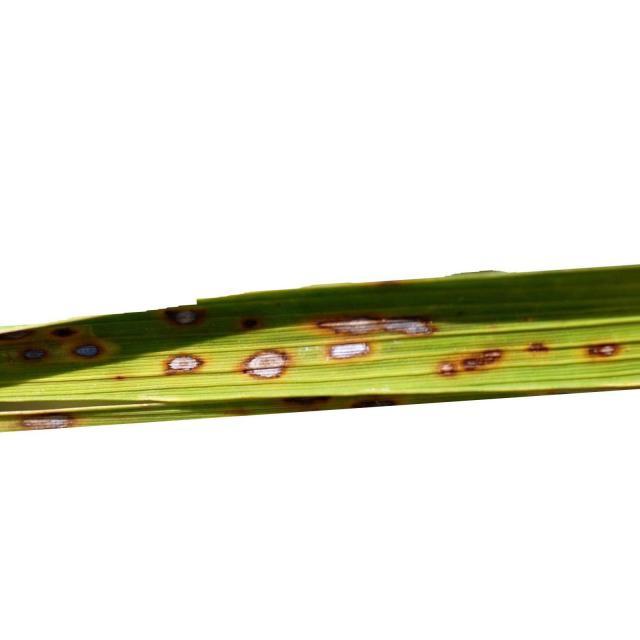Brown_Spot: (318, 318, 435, 335), (438, 349, 502, 376), (244, 350, 289, 378), (166, 355, 204, 374), (330, 342, 370, 359), (70, 341, 104, 359), (21, 346, 49, 361), (588, 344, 619, 356), (174, 310, 198, 325), (438, 361, 458, 376), (52, 326, 76, 338), (528, 342, 549, 352)
